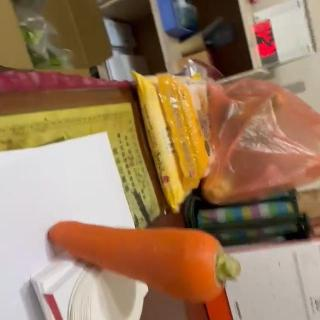carrot: (48, 218, 238, 302)
